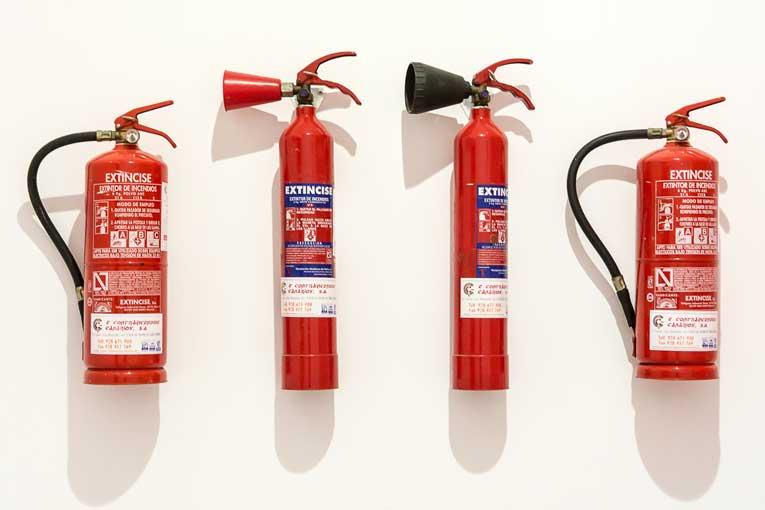wall-mounted: (560, 68, 745, 424), (0, 76, 190, 408), (209, 45, 369, 399), (390, 43, 543, 413)
